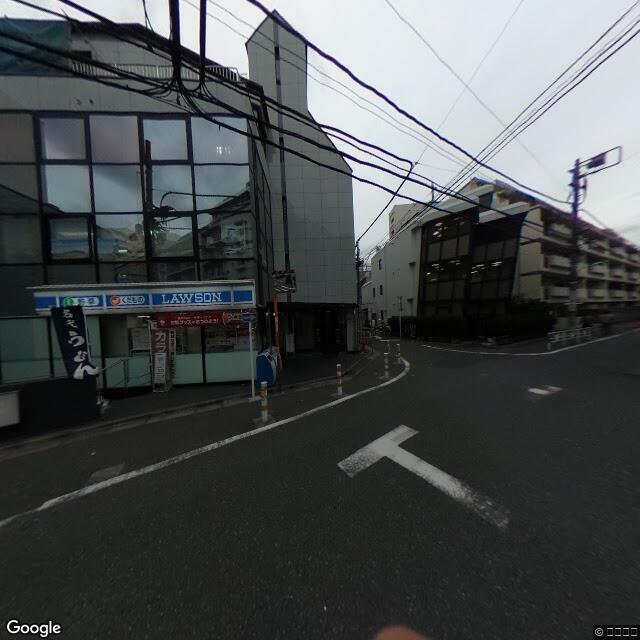lawson: (30, 278, 258, 316)
